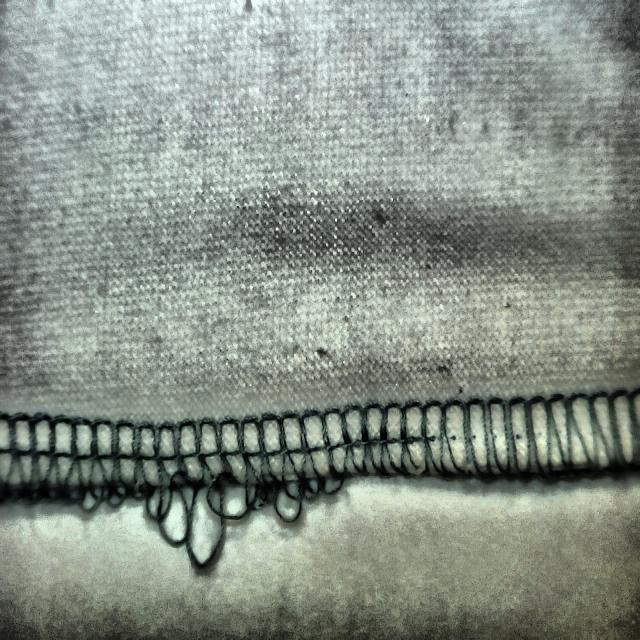gray stitch: (4, 401, 345, 570)
